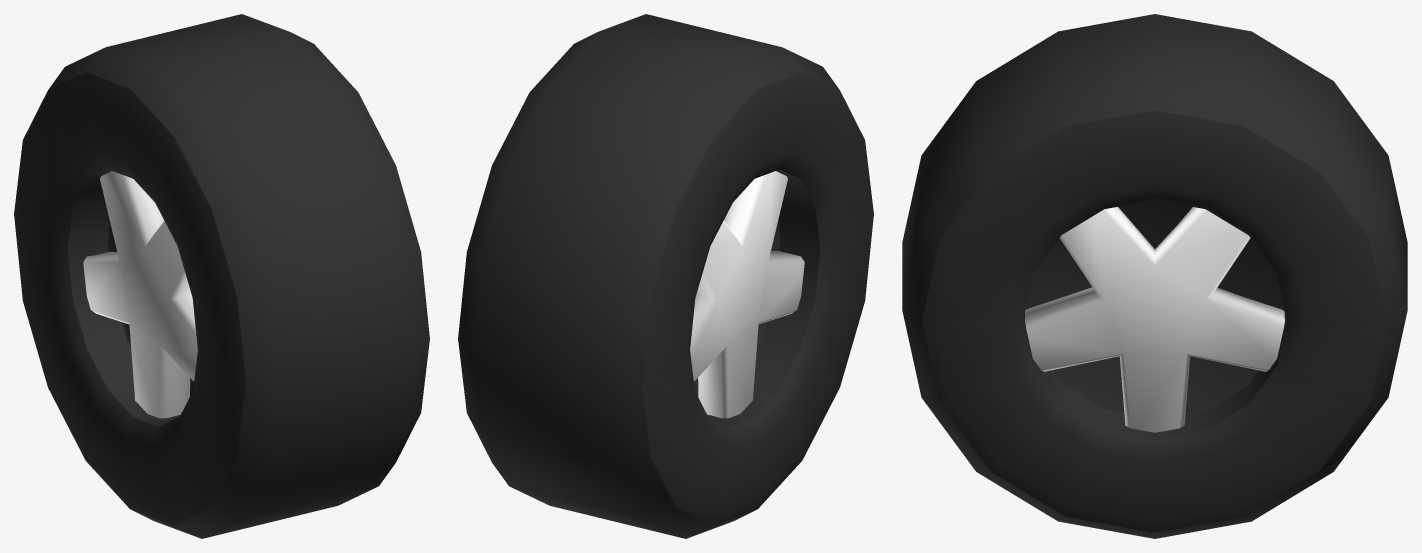
Rendered from Tire.fbx.
3 views of the same model, side by side, from view 1: azimuth 30°, elevation 25°; view 2: azimuth 150°, elevation 25°; view 3: azimuth 270°, elevation 25° (orthographic).
Parts seen in each view (by area): view 1: Wheel; view 2: Wheel; view 3: Wheel.
Boxes of the visible parts, x1,y1,x2,y2 form: Wheel: (14, 14, 429, 538); Wheel: (458, 14, 873, 538); Wheel: (902, 14, 1407, 538).
Bounding box in the file's own units: 0.6687 × 1.5 × 1.5.
